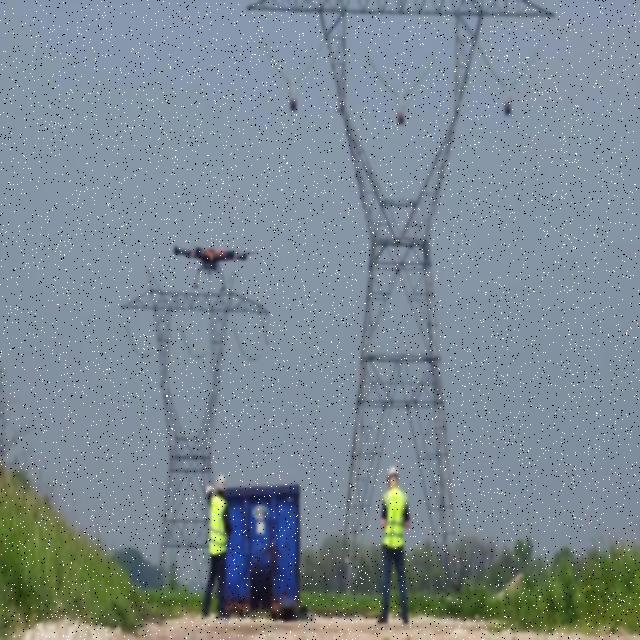UAV: (173, 245, 260, 292)
